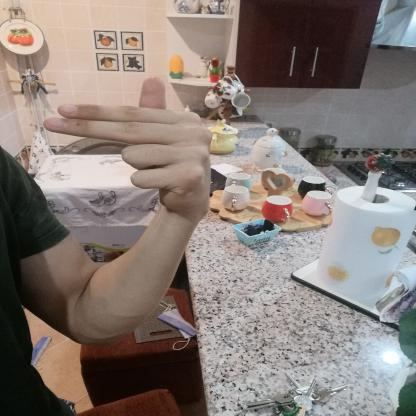GHAYN: (34, 71, 223, 221)
